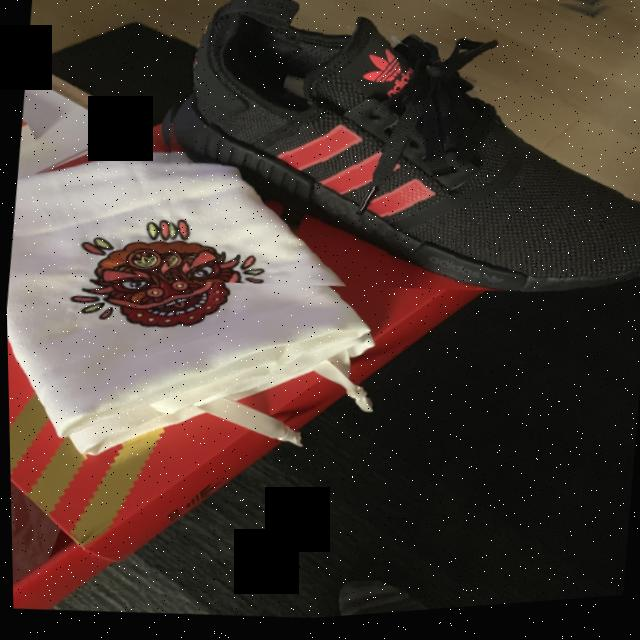shoe: (140, 0, 640, 335)
